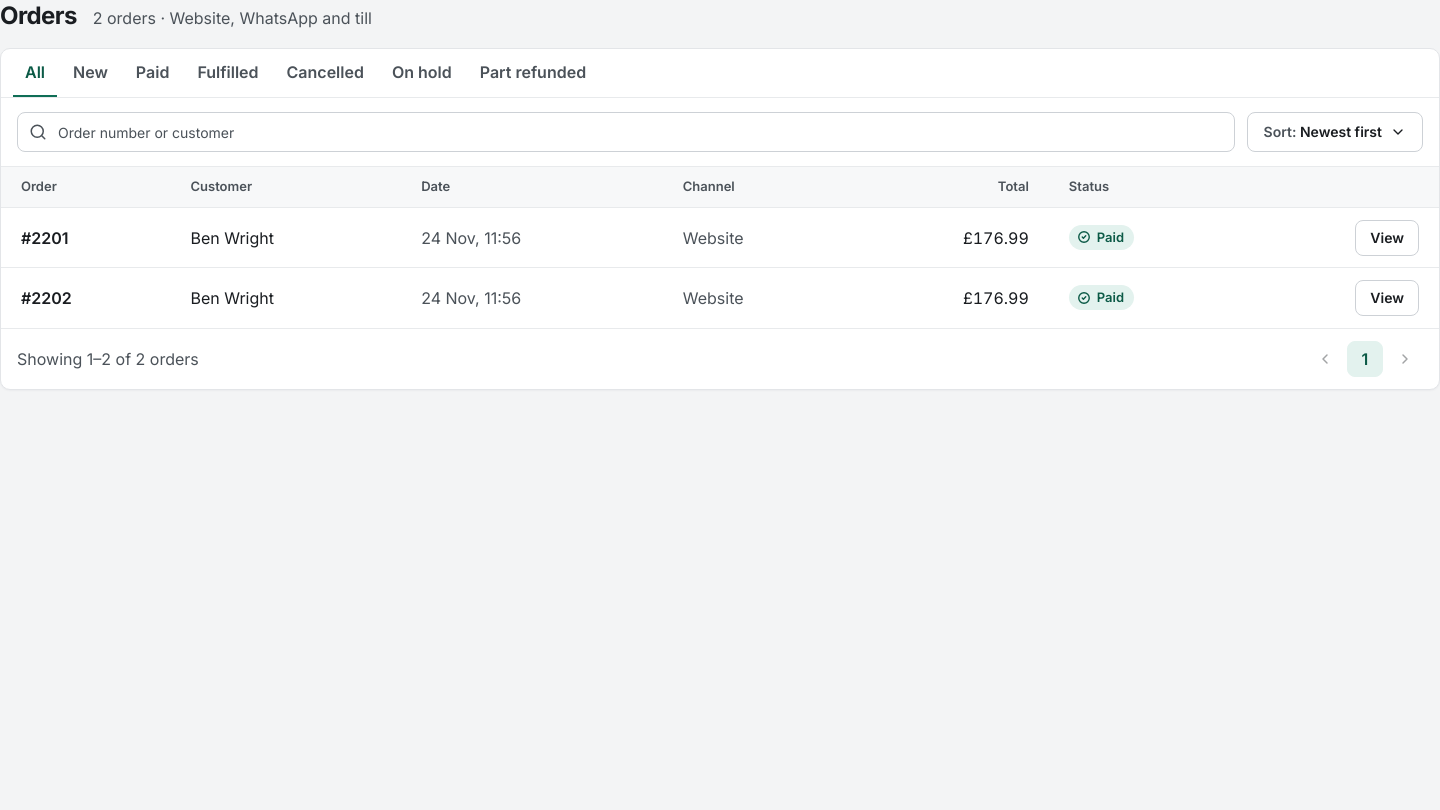
Test: Order details › shows a loading state while the order is fetched
Step 1. Click the button with aria-label "View order #2201" → (1387, 238), box [1355, 220, 1419, 256]
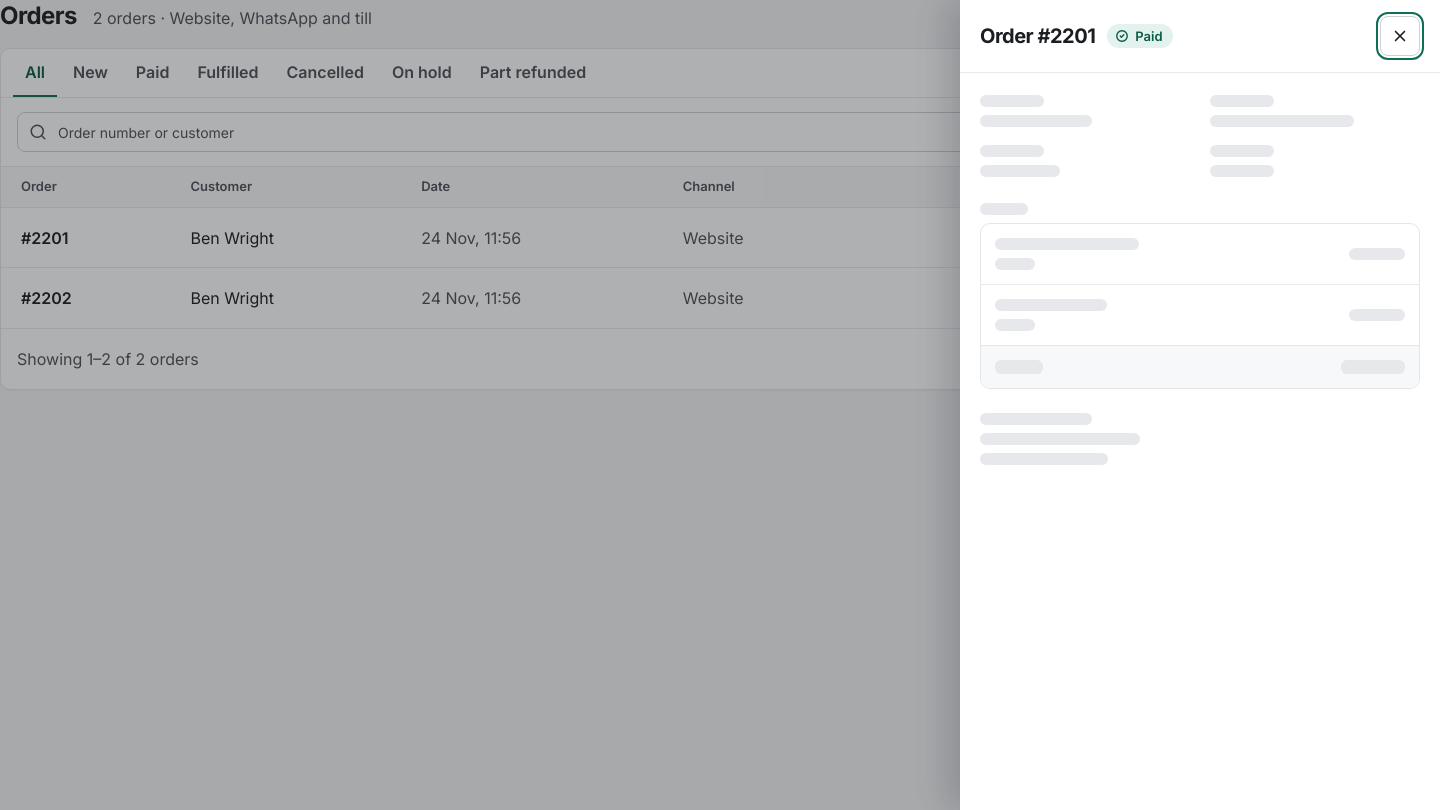
Result: the heading "Order #2201" is shown at [980, 22, 1095, 50]
